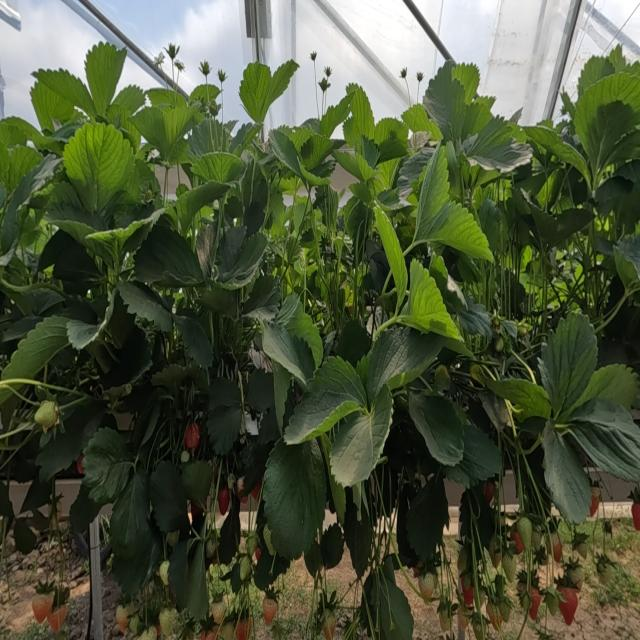Flowers: (217, 68, 228, 125), (198, 60, 211, 85), (154, 51, 165, 69), (166, 44, 179, 59), (319, 78, 329, 93), (175, 61, 183, 72), (324, 66, 331, 77), (417, 71, 423, 82), (400, 68, 406, 79), (311, 51, 316, 64)
Leaves: (263, 437, 326, 559), (575, 61, 639, 174), (284, 357, 367, 444), (0, 156, 60, 264), (63, 123, 134, 211), (538, 313, 597, 418), (568, 398, 639, 483), (330, 389, 392, 486), (37, 398, 106, 482), (84, 209, 164, 275), (541, 421, 591, 522), (366, 327, 443, 392), (134, 222, 203, 287), (404, 261, 460, 339), (1, 315, 68, 380), (360, 559, 413, 639), (463, 117, 533, 173), (132, 102, 196, 163), (411, 145, 450, 244), (409, 393, 463, 464), (426, 202, 492, 260), (83, 428, 133, 504), (407, 473, 448, 561), (39, 229, 99, 289), (448, 423, 502, 485), (423, 61, 465, 140), (262, 323, 313, 388), (100, 325, 151, 390), (110, 473, 149, 556), (373, 208, 407, 303), (32, 69, 95, 117), (150, 460, 189, 536), (85, 42, 125, 115), (217, 230, 267, 286), (575, 363, 638, 407), (206, 376, 241, 455), (536, 124, 589, 176), (116, 282, 171, 331), (66, 294, 114, 350), (489, 379, 551, 419), (46, 203, 105, 244), (285, 303, 323, 366), (30, 78, 75, 131), (177, 182, 229, 227), (0, 138, 42, 193), (343, 84, 374, 154), (397, 146, 436, 199), (174, 315, 211, 368), (240, 63, 272, 122), (269, 129, 306, 180), (151, 364, 209, 394), (188, 118, 232, 157), (334, 320, 370, 367), (69, 482, 102, 532), (613, 234, 640, 294), (192, 152, 243, 183), (187, 540, 207, 619), (244, 276, 279, 320), (374, 118, 408, 163), (320, 93, 354, 138), (594, 175, 634, 213), (266, 59, 299, 105), (455, 298, 491, 338), (401, 104, 442, 139), (182, 460, 211, 507), (0, 116, 42, 147), (556, 208, 592, 244), (242, 159, 267, 209), (478, 199, 501, 252), (246, 369, 274, 412), (127, 160, 156, 200), (268, 293, 302, 327), (452, 64, 479, 103), (530, 206, 557, 245), (3, 315, 43, 341), (24, 290, 64, 315), (302, 134, 331, 168), (196, 224, 215, 275), (316, 185, 338, 229), (333, 151, 365, 181), (112, 85, 143, 113), (229, 123, 256, 152), (13, 519, 35, 554), (147, 88, 186, 107), (269, 188, 285, 231), (292, 196, 308, 232), (378, 188, 403, 209), (284, 232, 300, 264), (250, 220, 262, 233)
Strawberries: (594, 551, 617, 584), (34, 401, 58, 430), (559, 588, 578, 624), (32, 594, 52, 623), (418, 573, 435, 603), (516, 517, 531, 551), (159, 607, 176, 636), (48, 605, 66, 631), (437, 599, 451, 632), (485, 602, 501, 630), (184, 422, 199, 449), (321, 611, 335, 639), (502, 555, 516, 581), (217, 485, 229, 515), (529, 587, 540, 619), (263, 599, 276, 626), (569, 566, 583, 591), (235, 618, 251, 639), (116, 605, 128, 632), (246, 534, 258, 559), (239, 556, 251, 580), (546, 591, 558, 615), (573, 540, 588, 559), (552, 536, 562, 563), (212, 603, 225, 623), (137, 626, 156, 639), (499, 601, 511, 621), (590, 489, 599, 515), (462, 583, 473, 604), (484, 481, 494, 503), (458, 610, 468, 632), (522, 589, 531, 611), (206, 538, 217, 556), (159, 561, 167, 584), (632, 503, 639, 529), (491, 551, 500, 567), (131, 615, 138, 634), (144, 190, 153, 203), (496, 338, 503, 351), (459, 632, 463, 639)
